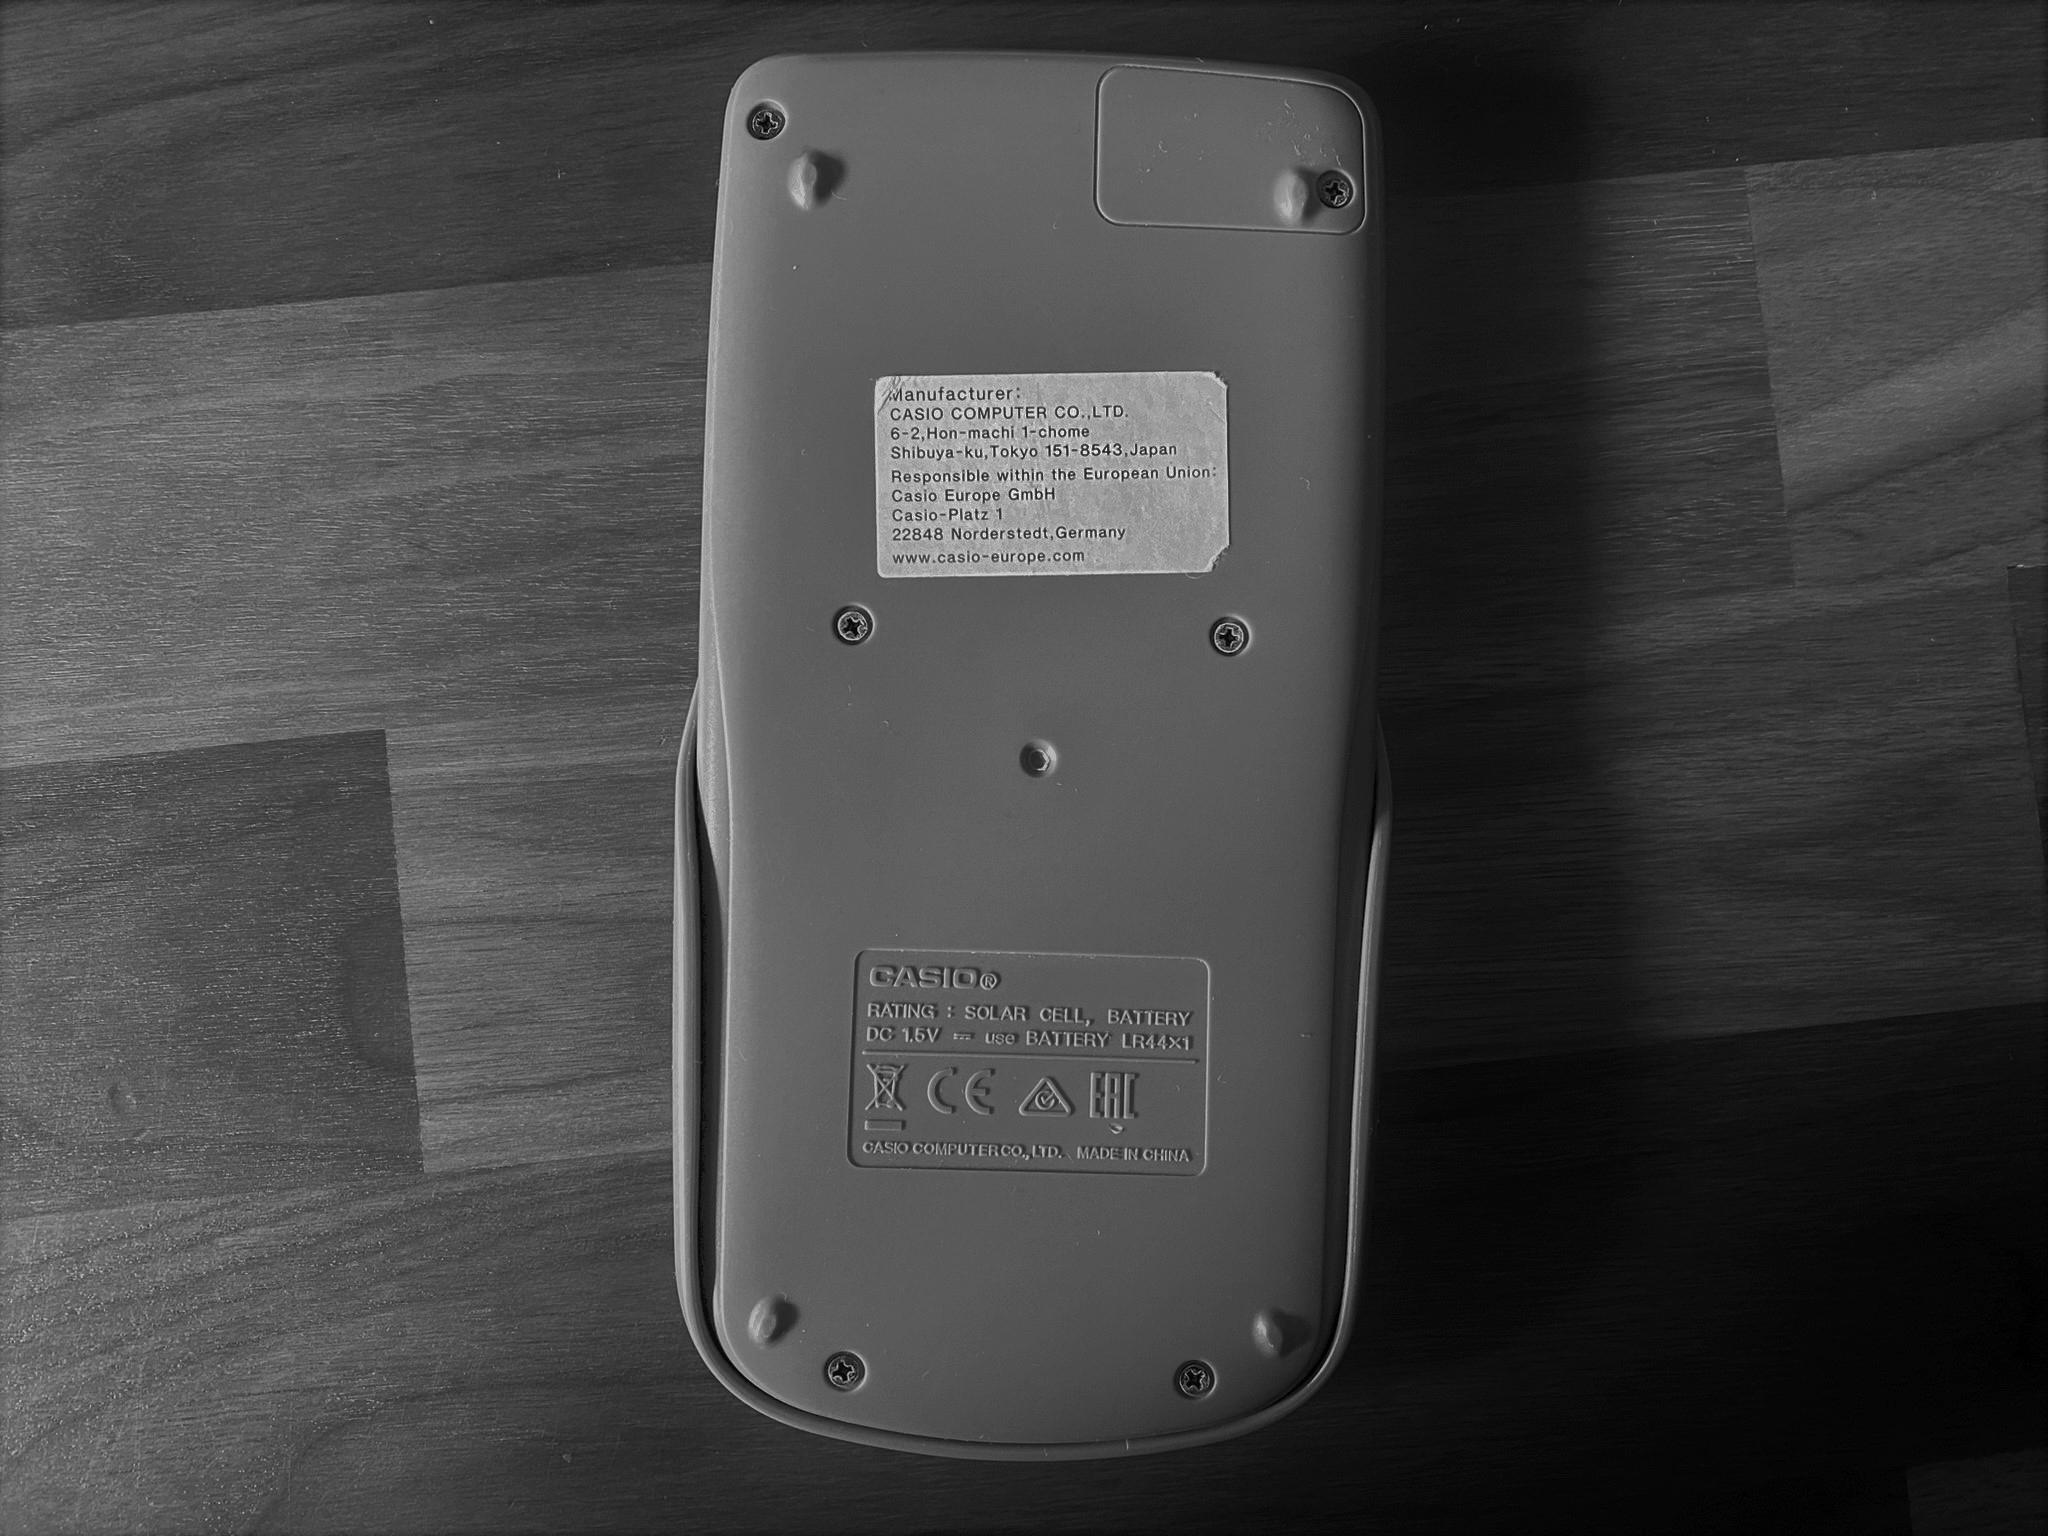philips-PZ: (1314, 168, 1358, 210), (1206, 616, 1248, 658), (832, 607, 877, 645), (745, 103, 787, 142), (824, 1352, 863, 1391), (1174, 1363, 1216, 1399)
